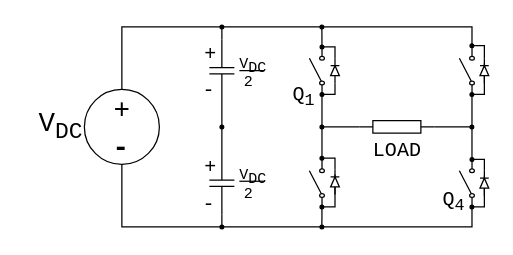
The diagram is 513 pixels wide and 255 high, and some of its shapes have lost their labels. The shapes that lost their labels are listed below. From the top down, each one's box as (x1, y1, x2, y2) in pixels, then its label:
(458, 46, 474, 94): Q 2
(308, 158, 324, 207): Q 3
